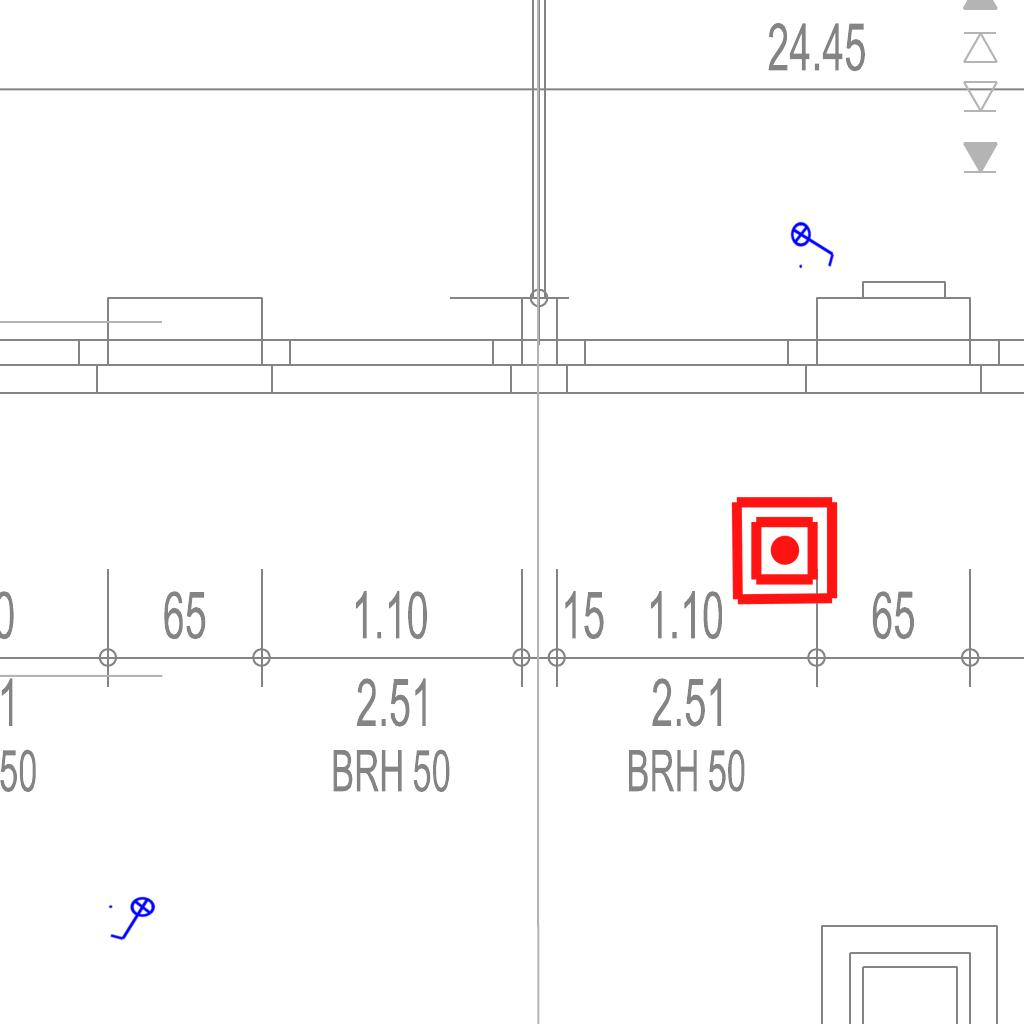Ausschalter_beleuchtet: (790, 215, 838, 271), (106, 896, 162, 944)
NAM-Nichtautomatischer_Melder: (728, 494, 841, 607)
